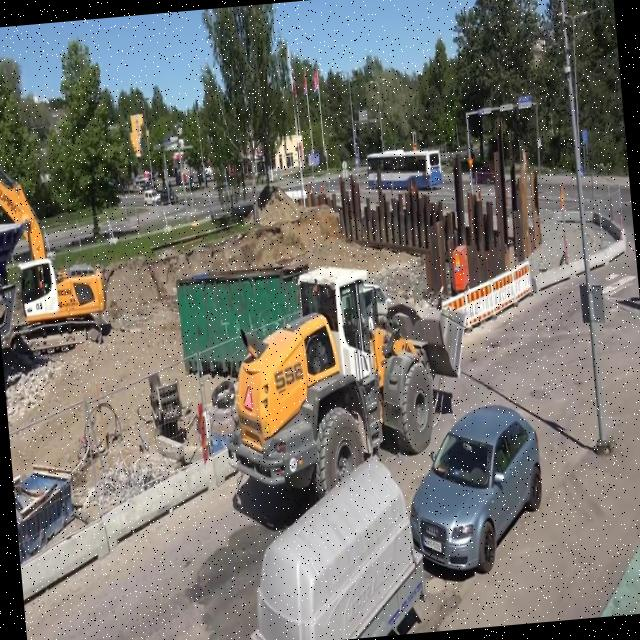Excavator: (0, 103, 111, 356)
Loader: (210, 248, 482, 510)
